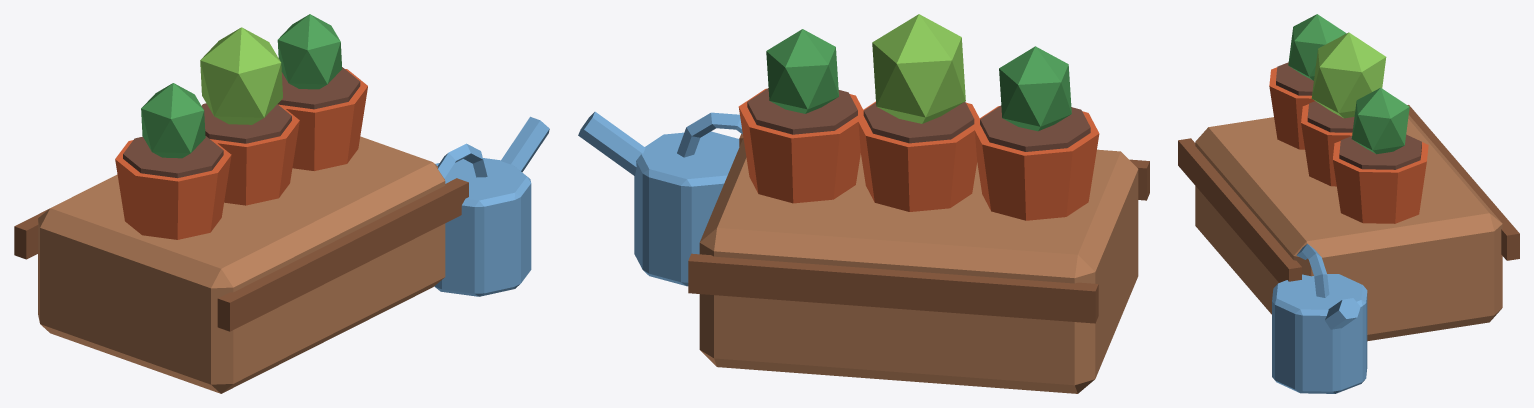
The model's file is MOONSHIFT_ITM_Garden_Kit.glb.
The picture shows the model from 3 angles, left to right: view 1: azimuth 30°, elevation 25°; view 2: azimuth 150°, elevation 25°; view 3: azimuth 270°, elevation 25°; orthographic projection. The views are drawn at different scales.
Visible parts, largest first — view 1: GKit_Crate, GKit_CanBody, GKit_Slat0, GKit_Pot0, GKit_Sprout1, GKit_Pot1, GKit_Pot2, GKit_Sprout0, GKit_Sprout2, GKit_Soil0, GKit_Soil1, GKit_Soil2 (+3 smaller); view 2: GKit_Crate, GKit_Slat1, GKit_CanBody, GKit_Pot0, GKit_Pot2, GKit_Pot1, GKit_Sprout1, GKit_Sprout0, GKit_Sprout2, GKit_Soil0, GKit_Soil2, GKit_Soil1 (+3 smaller); view 3: GKit_Crate, GKit_CanBody, GKit_Pot2, GKit_Slat0, GKit_Sprout1, GKit_Sprout2, GKit_Sprout0, GKit_Pot1, GKit_Pot0, GKit_Soil2, GKit_Slat1, GKit_Soil1 (+3 smaller).
Boxes of the visible parts, x1,y1,x2,y2 form: GKit_Crate: (38, 136, 445, 393); GKit_CanBody: (434, 158, 531, 296); GKit_Slat0: (217, 178, 468, 331); GKit_Pot0: (115, 139, 231, 239); GKit_Sprout1: (200, 27, 282, 124); GKit_Pot1: (210, 104, 299, 205); GKit_Pot2: (281, 69, 367, 170); GKit_Sprout0: (141, 83, 205, 158); GKit_Sprout2: (277, 14, 342, 89); GKit_Soil0: (123, 136, 223, 178); GKit_Soil1: (202, 103, 291, 143); GKit_Soil2: (278, 67, 360, 109); GKit_Crate: (699, 139, 1138, 393); GKit_Slat1: (688, 253, 1098, 323); GKit_CanBody: (634, 131, 739, 286); GKit_Pot0: (974, 106, 1099, 220); GKit_Pot2: (738, 88, 863, 203); GKit_Pot1: (856, 101, 980, 211); GKit_Sprout1: (872, 14, 965, 123); GKit_Sprout0: (999, 46, 1071, 131); GKit_Sprout2: (766, 29, 838, 113); GKit_Soil0: (980, 105, 1090, 151); GKit_Soil2: (747, 88, 857, 134); GKit_Soil1: (863, 102, 974, 143); GKit_Crate: (1195, 115, 1502, 341); GKit_CanBody: (1272, 274, 1367, 393); GKit_Pot2: (1332, 141, 1428, 223); GKit_Slat0: (1178, 138, 1301, 282); GKit_Sprout1: (1311, 32, 1386, 118); GKit_Sprout2: (1351, 87, 1409, 154); GKit_Sprout0: (1288, 14, 1346, 80); GKit_Pot1: (1301, 104, 1352, 186); GKit_Pot0: (1269, 67, 1314, 149); GKit_Soil2: (1339, 134, 1421, 169); GKit_Slat1: (1407, 105, 1519, 260); GKit_Soil1: (1307, 101, 1354, 132).
Bounding box in the file's own units: 1.08 × 0.598 × 0.7375.
